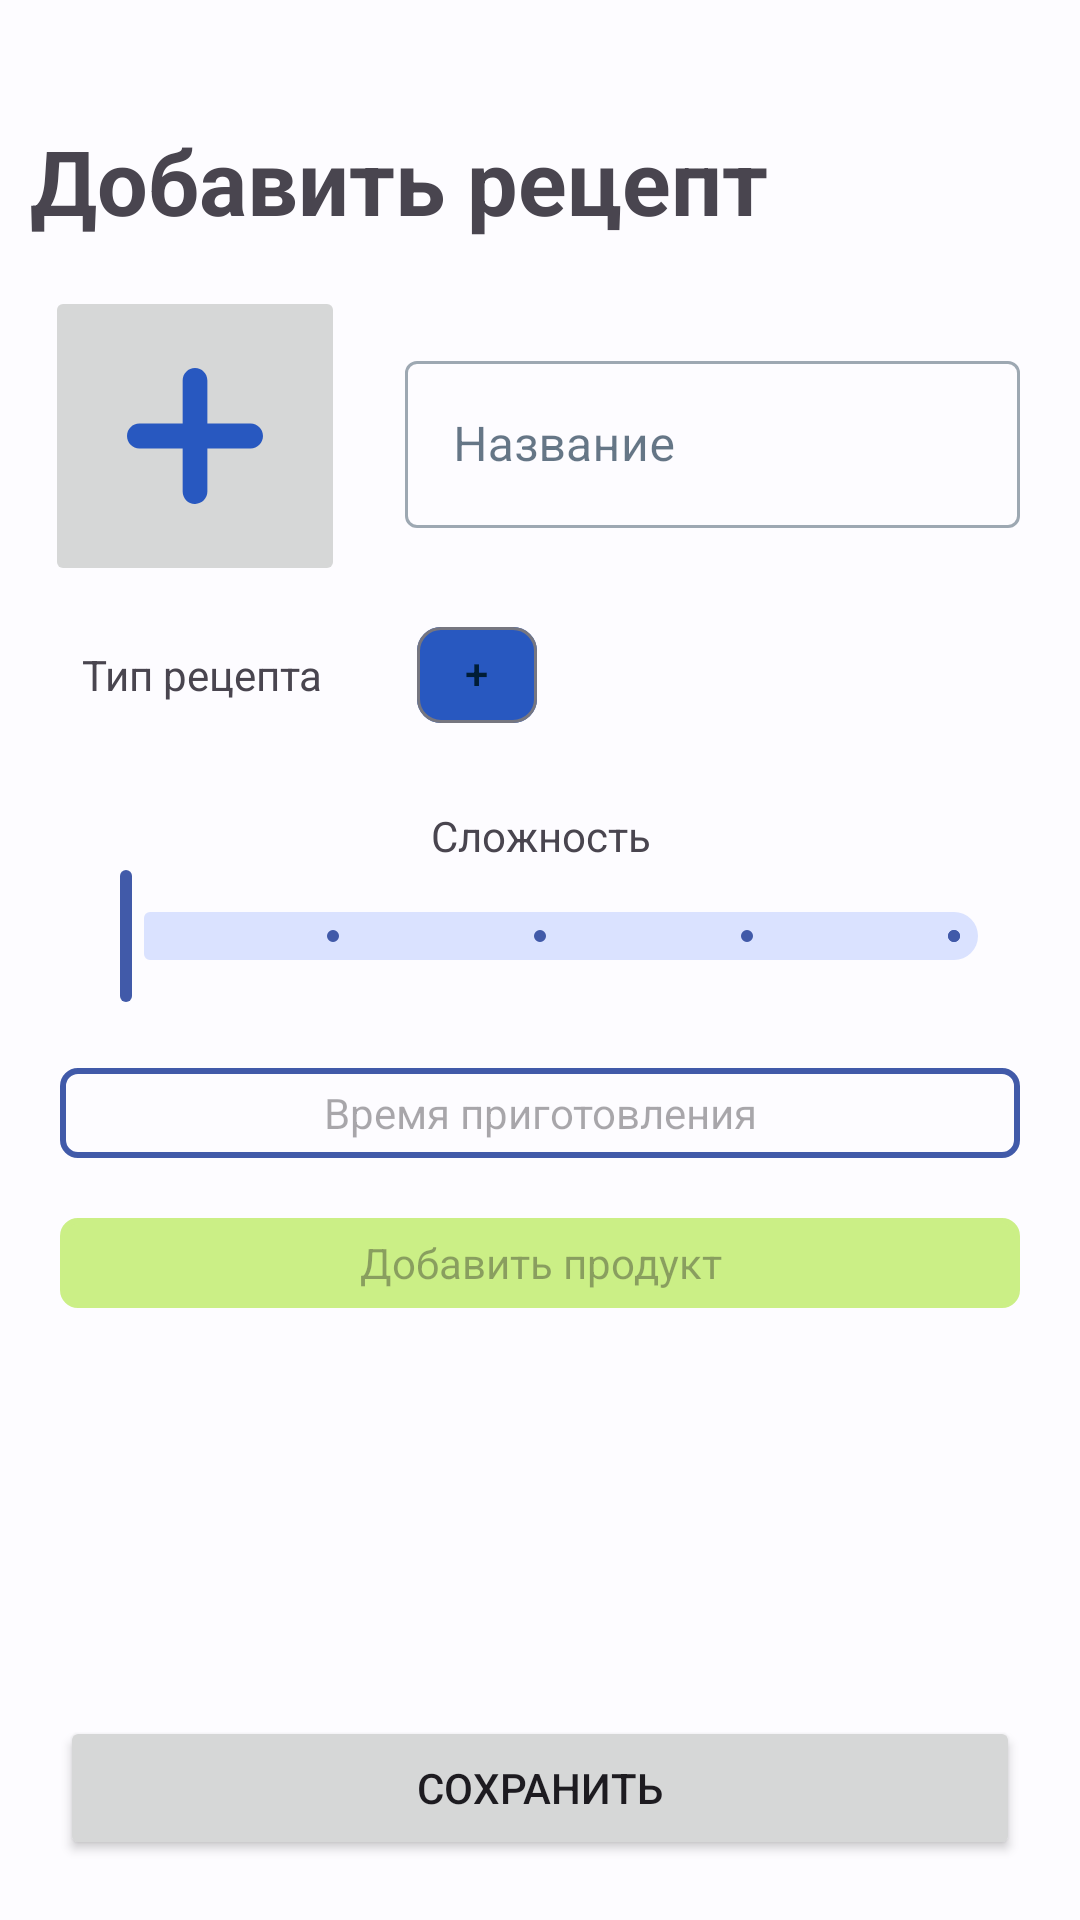

Screen size 1080px x 1920px. Icon name, then its center in pixels as (x=x, y=y):
plus: (x=195, y=436)
